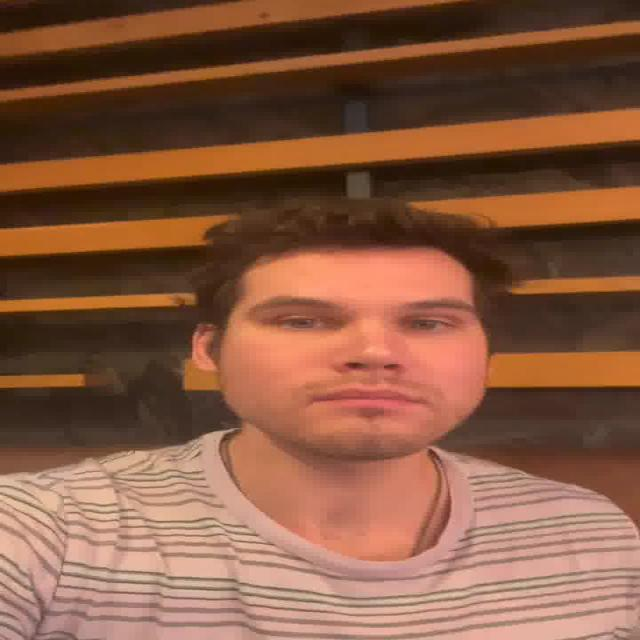earlobe: (196, 357, 220, 374)
eye: (274, 314, 331, 330), (404, 316, 456, 332)
nose: (336, 365, 407, 389)
wholeear: (190, 322, 220, 374)
